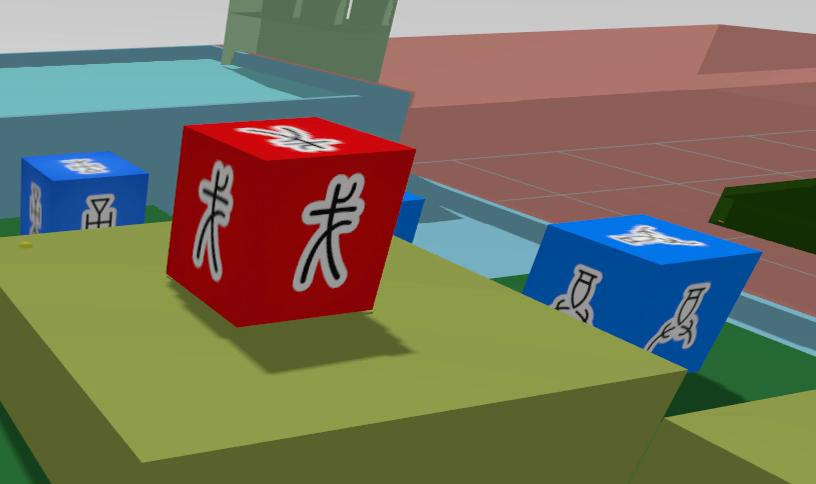KFS_FAKE: (167, 117, 415, 326), (293, 175, 365, 290), (192, 160, 233, 281)
KFS_REAL: (524, 214, 760, 370), (20, 152, 147, 233), (646, 283, 710, 350), (551, 265, 602, 324), (82, 194, 116, 228)
